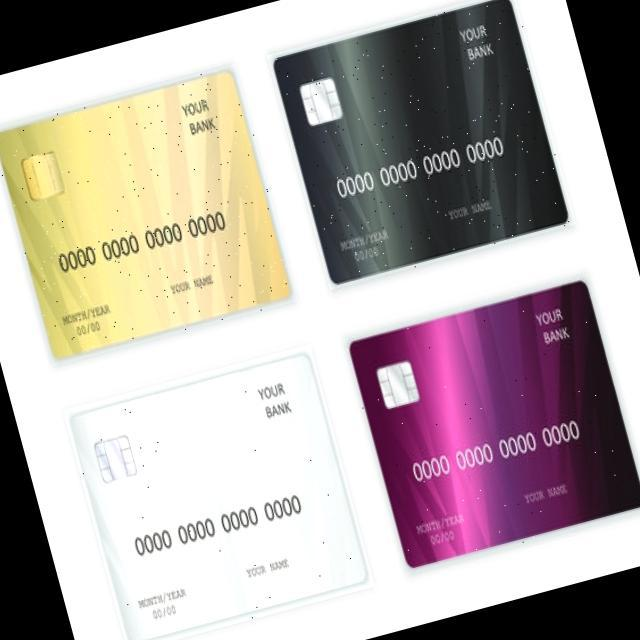payment_card: (69, 350, 370, 639), (1, 69, 294, 363), (347, 279, 638, 568), (272, 0, 568, 280)
